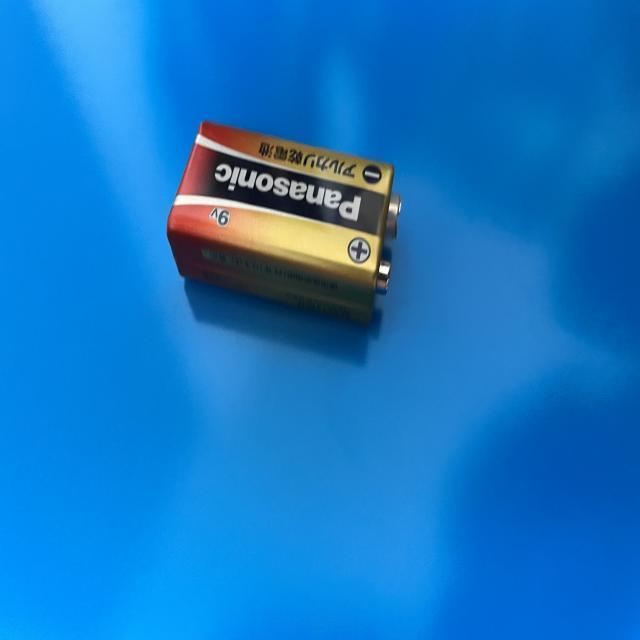9V: (166, 121, 402, 315)
